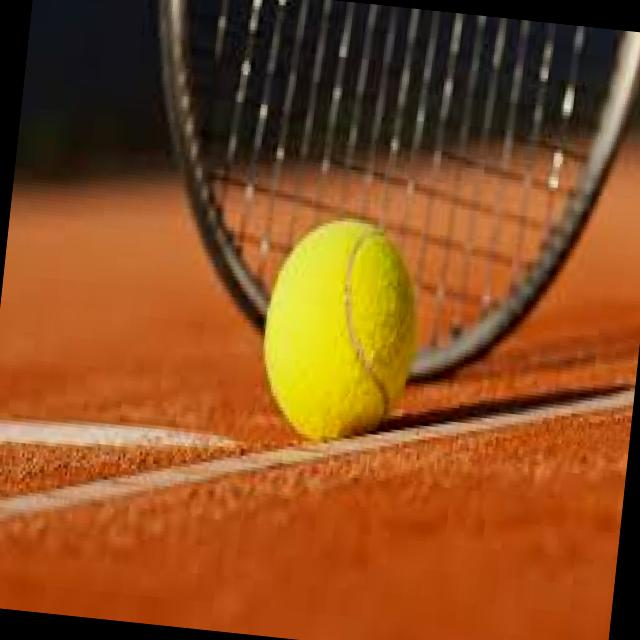Tennis Ball: (254, 212, 426, 448)
